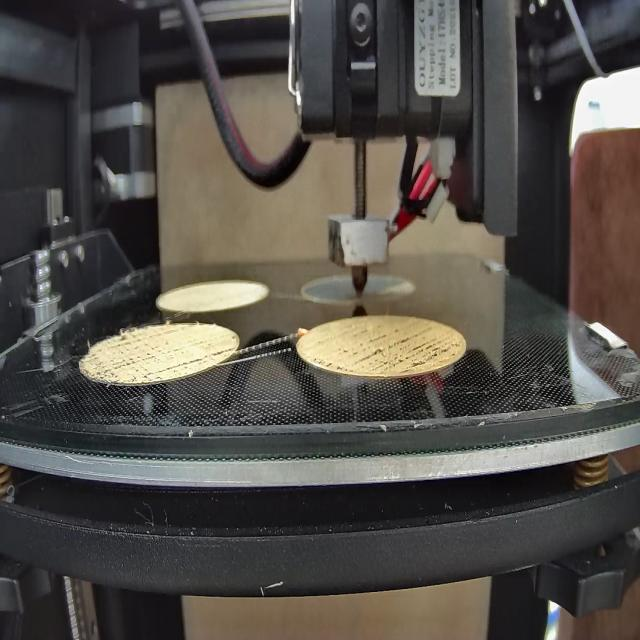under_extrusion: (313, 334, 462, 372), (89, 327, 162, 387), (168, 346, 234, 374)
